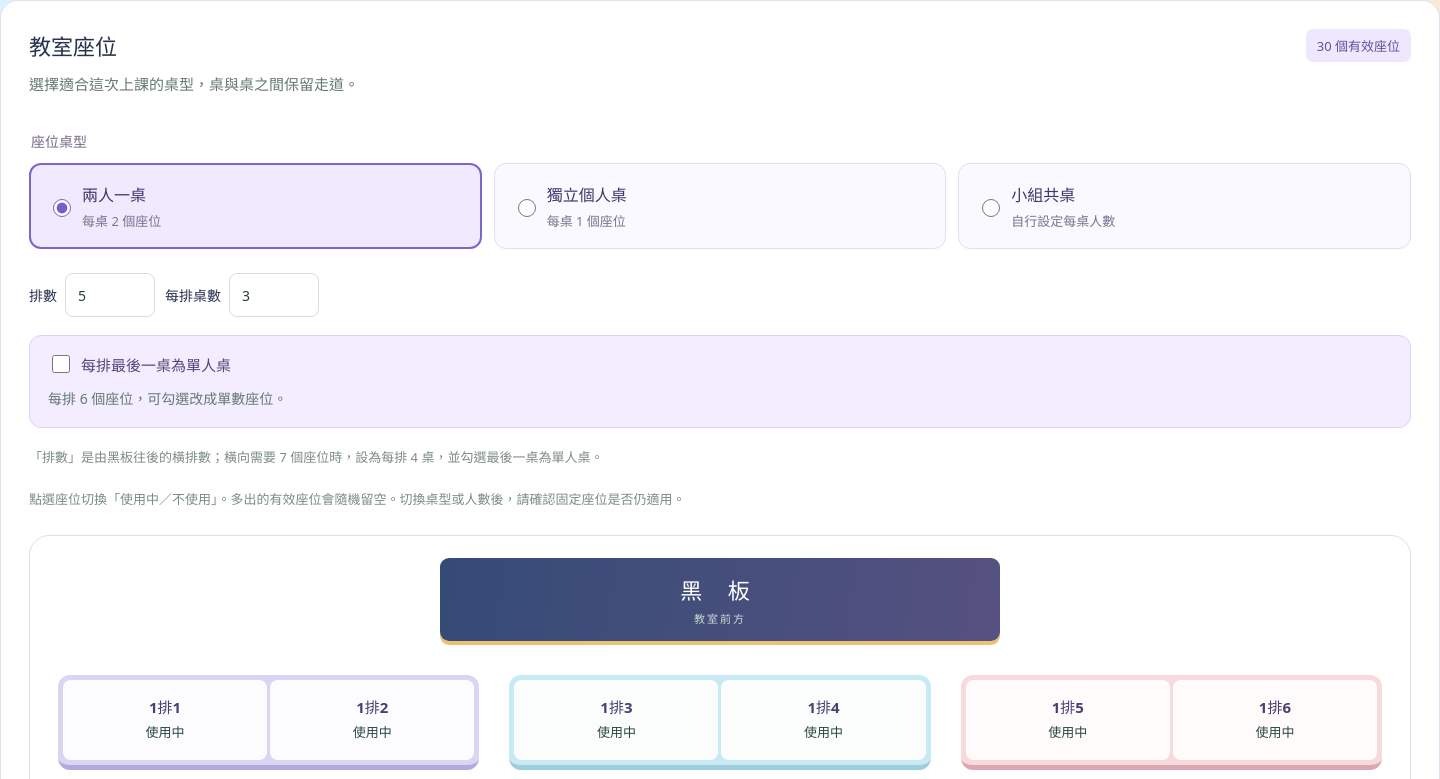
Test: 桌型設定互動 › 小組人数小於3時恢復原設定
Click the radio button labelled "小組共桌" at [991, 208], box [982,198,1000,216]
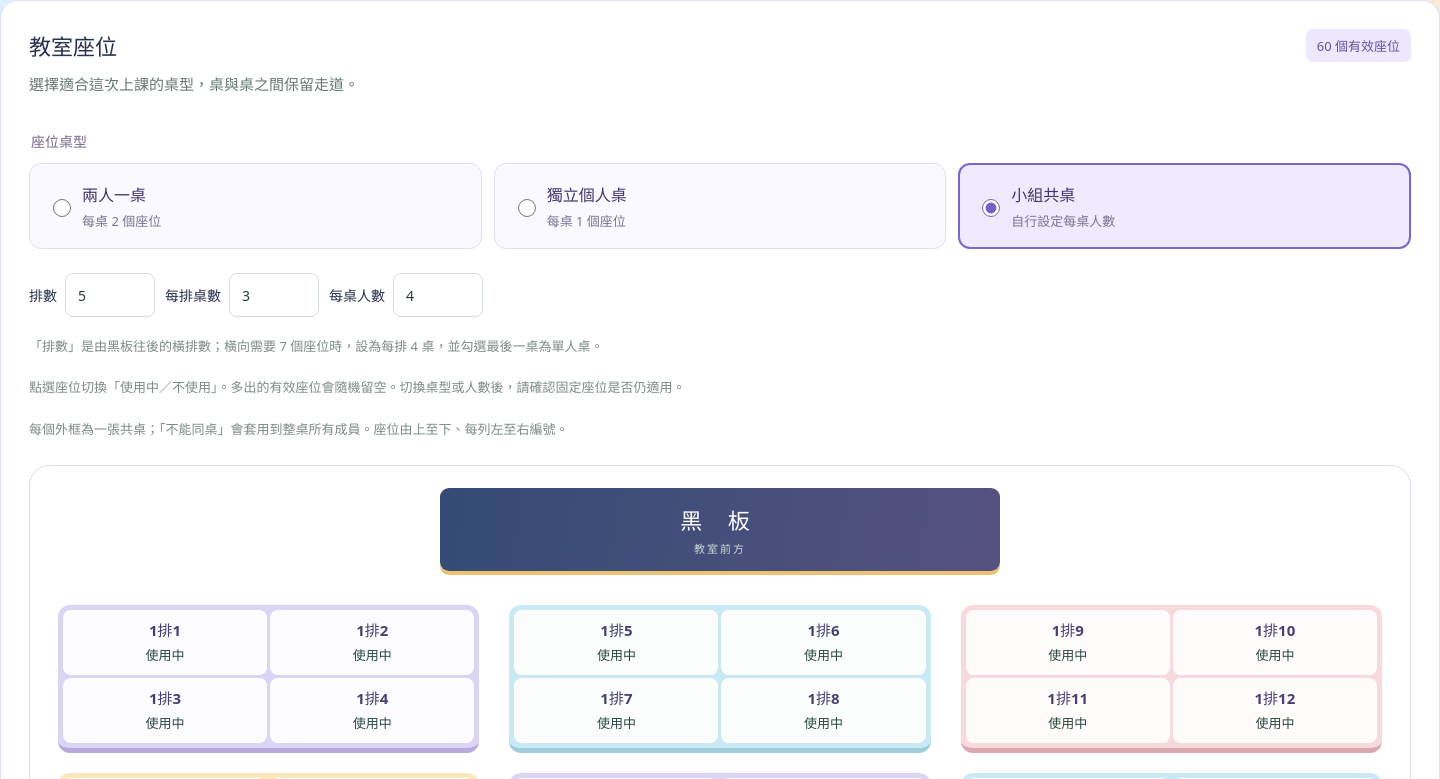
Replace the text in the number field labelled "每桌人數" with "2" at [438, 295], box [393,273,483,317]
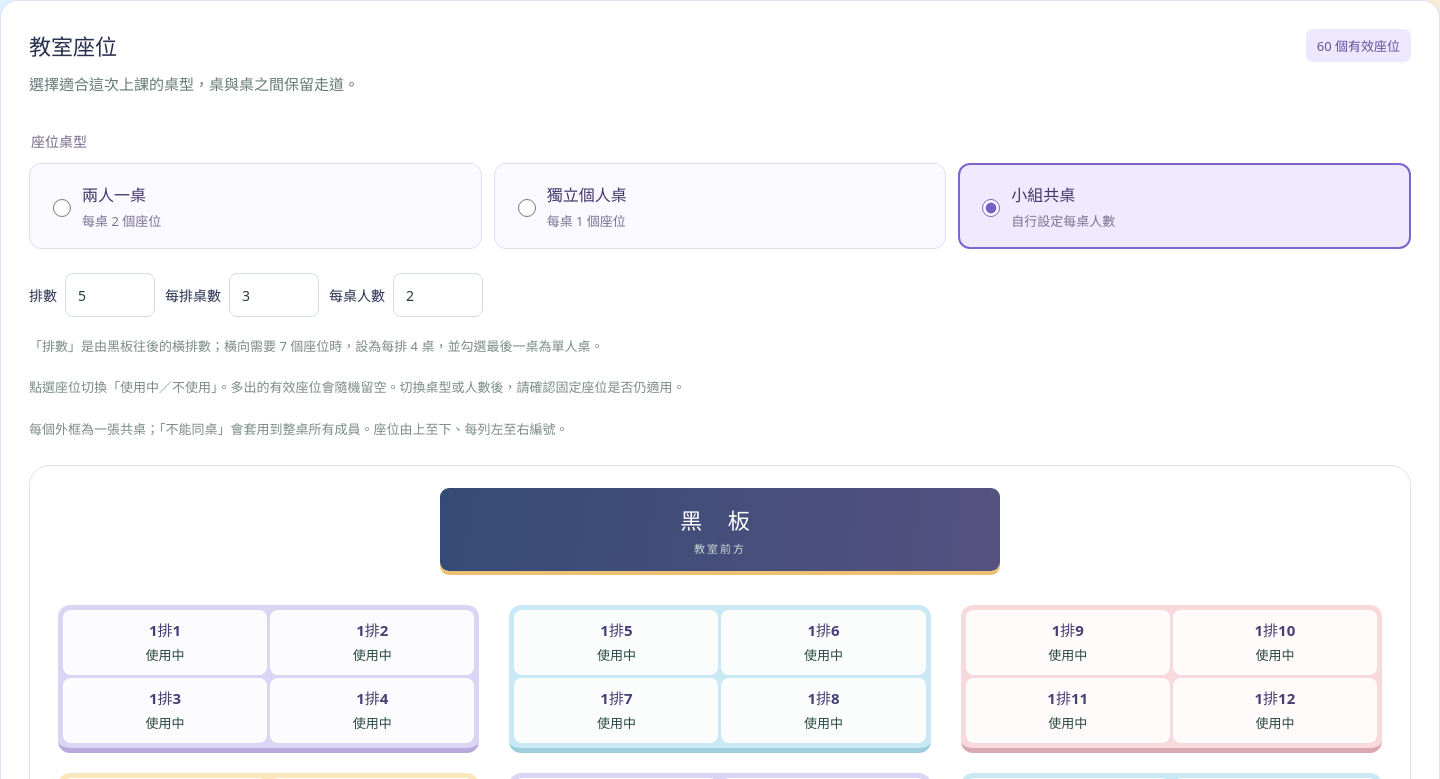
Leave the number field labelled "每桌人數", box [393,273,483,317]
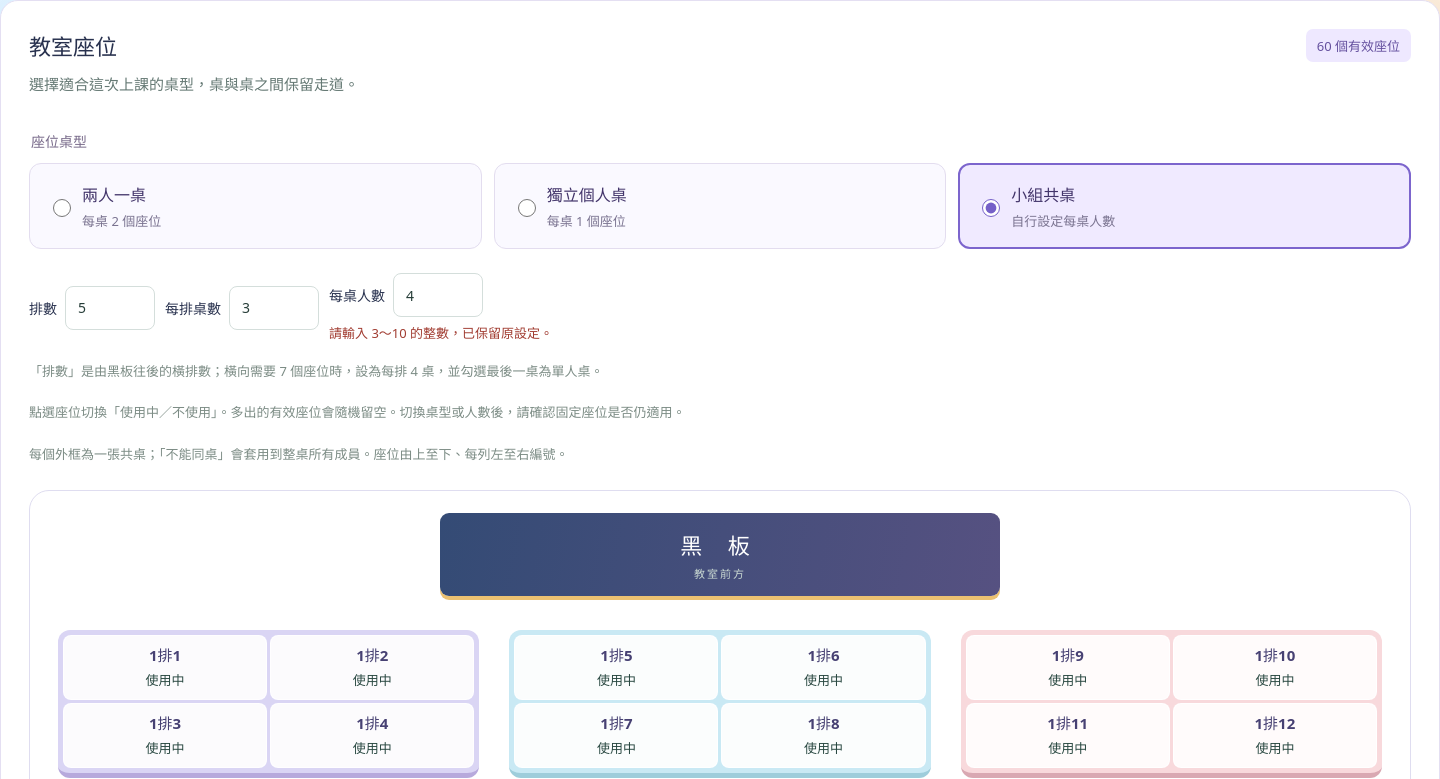
Check: the number field labelled "每桌人數" holds "4", box [393,273,483,317]
Check: the message shows "3～10", box [329,323,553,342]
